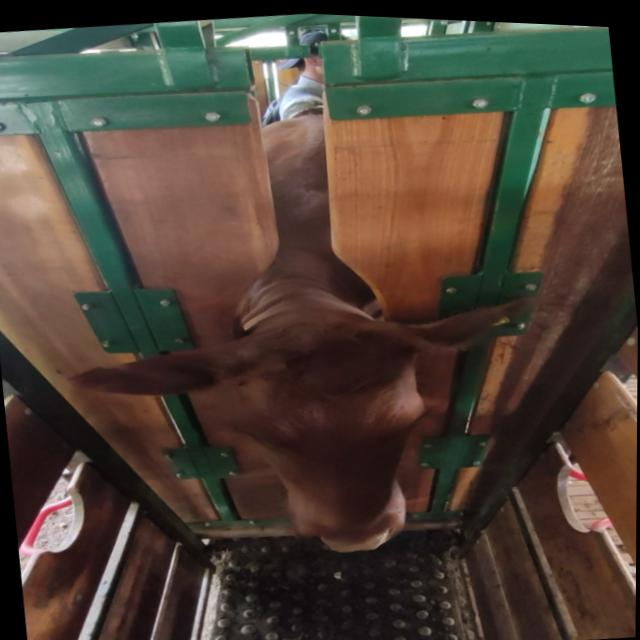cowFace: (215, 306, 435, 565)
